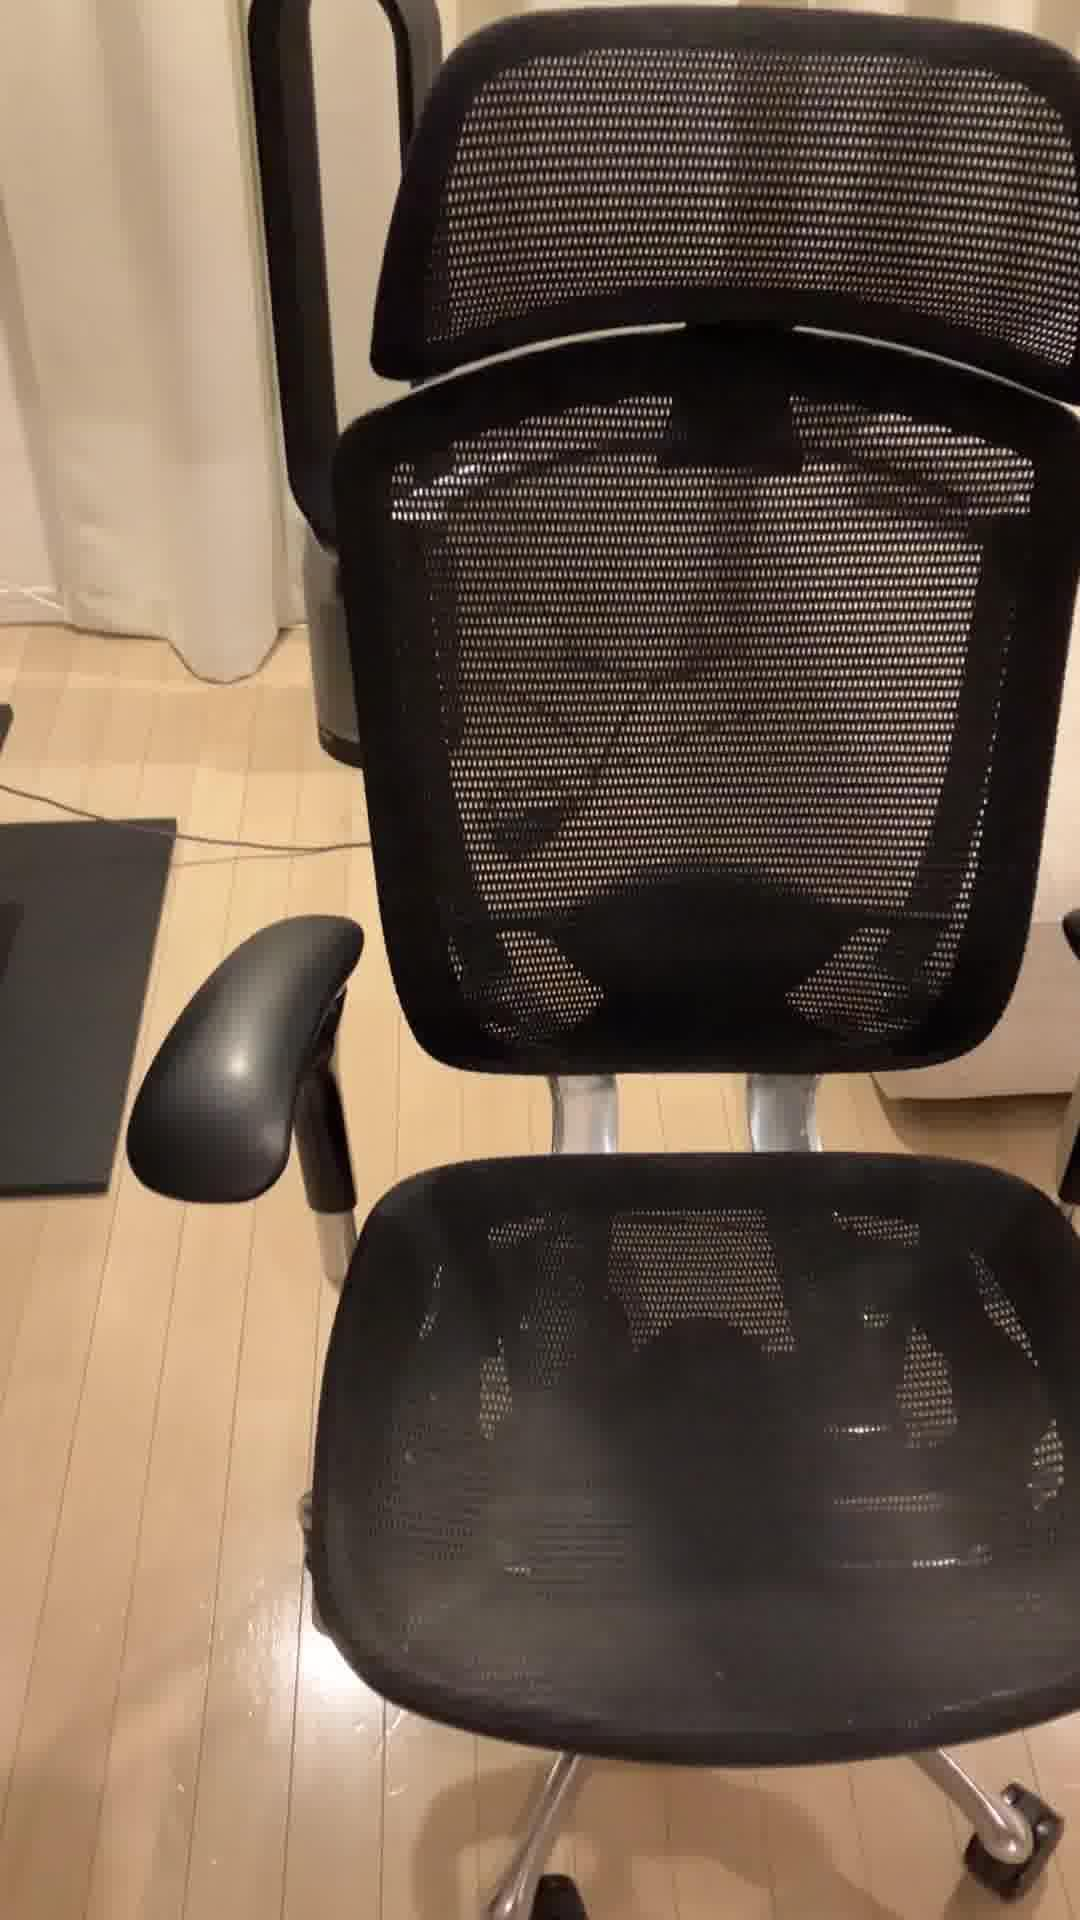okamura-contessa: (123, 0, 1080, 1920)
